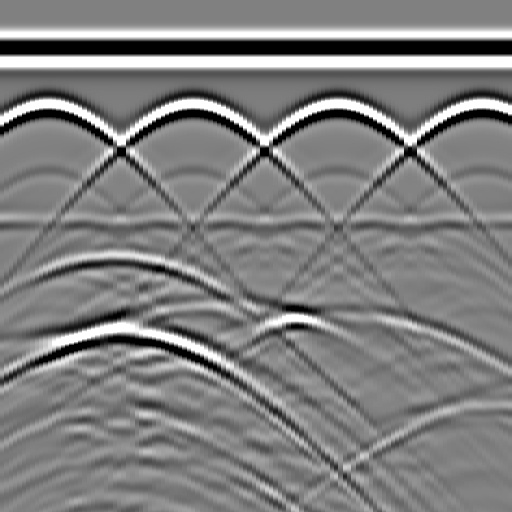grout_surface: (1, 208, 512, 238)
rebar: (26, 87, 66, 127), (170, 87, 210, 127), (315, 87, 355, 127), (459, 87, 499, 127)
rock_surface: (1, 302, 511, 406)
water_void: (85, 233, 145, 273)
